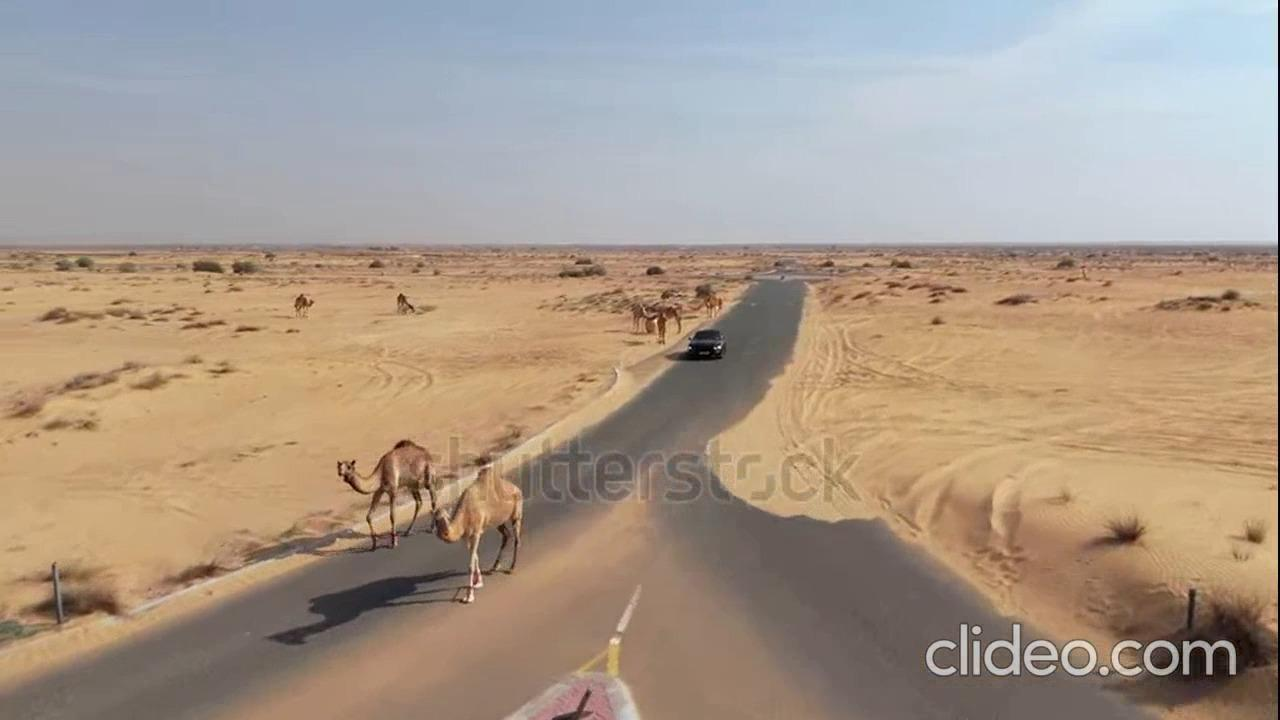camel: (420, 460, 530, 600), (330, 438, 443, 556)
